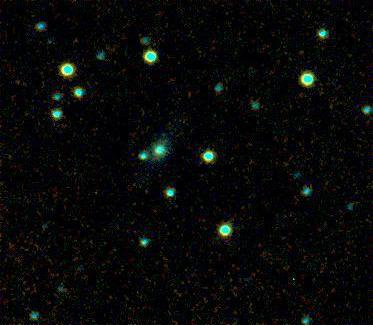star: (129, 178, 159, 208)
